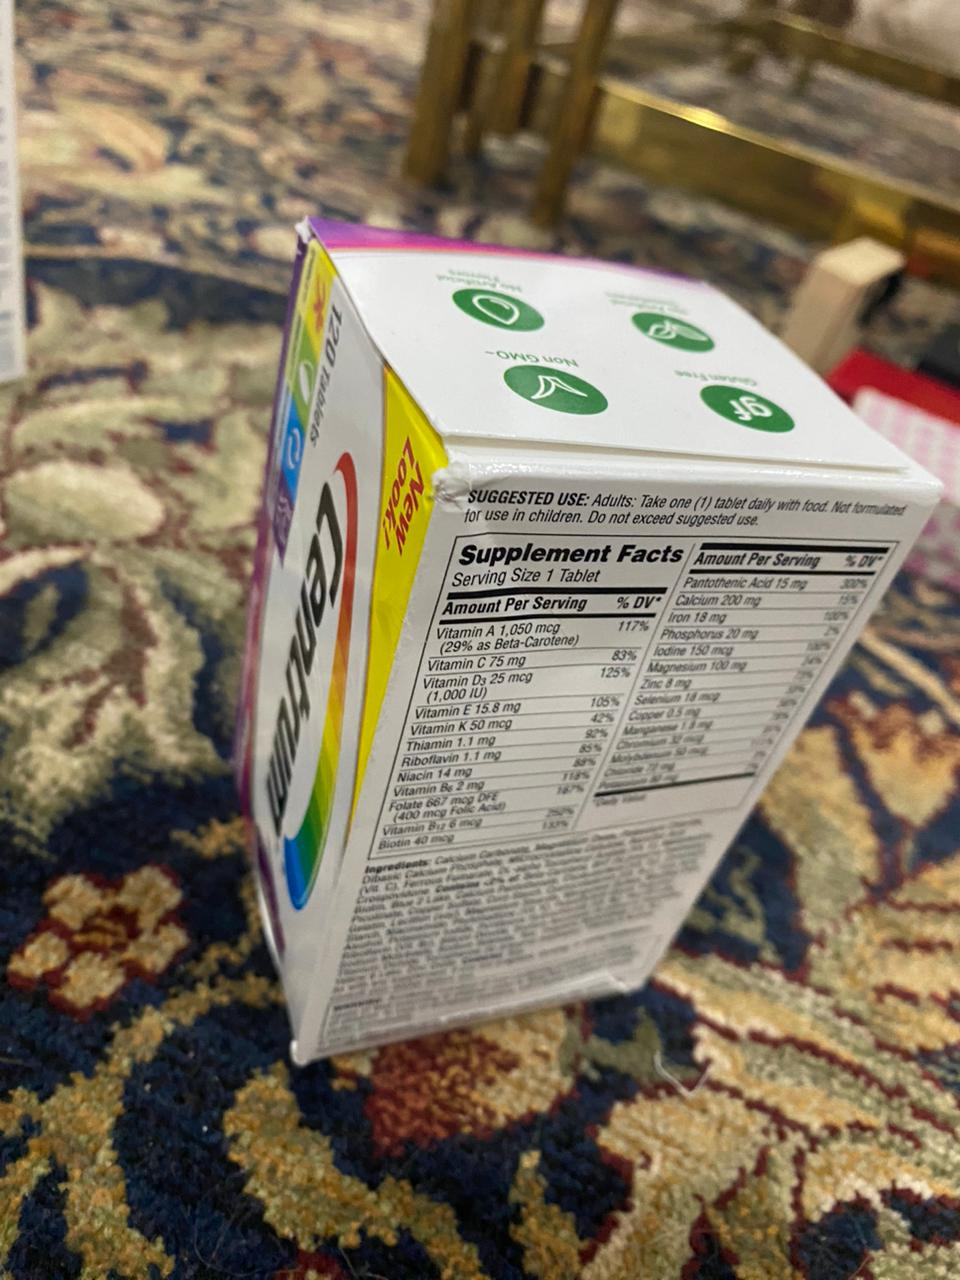Centrum: (238, 216, 947, 1067)
Pink Box: (851, 386, 960, 579)
Red Box: (827, 348, 958, 420)
Yellow Box: (783, 235, 899, 378)
